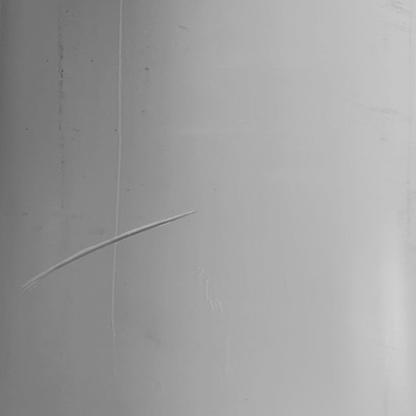sunshang: (24, 207, 197, 287)
